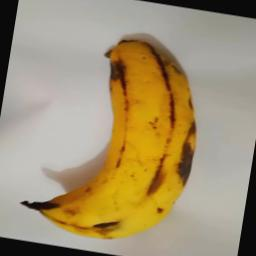Banana Unripe: (14, 17, 215, 256)
